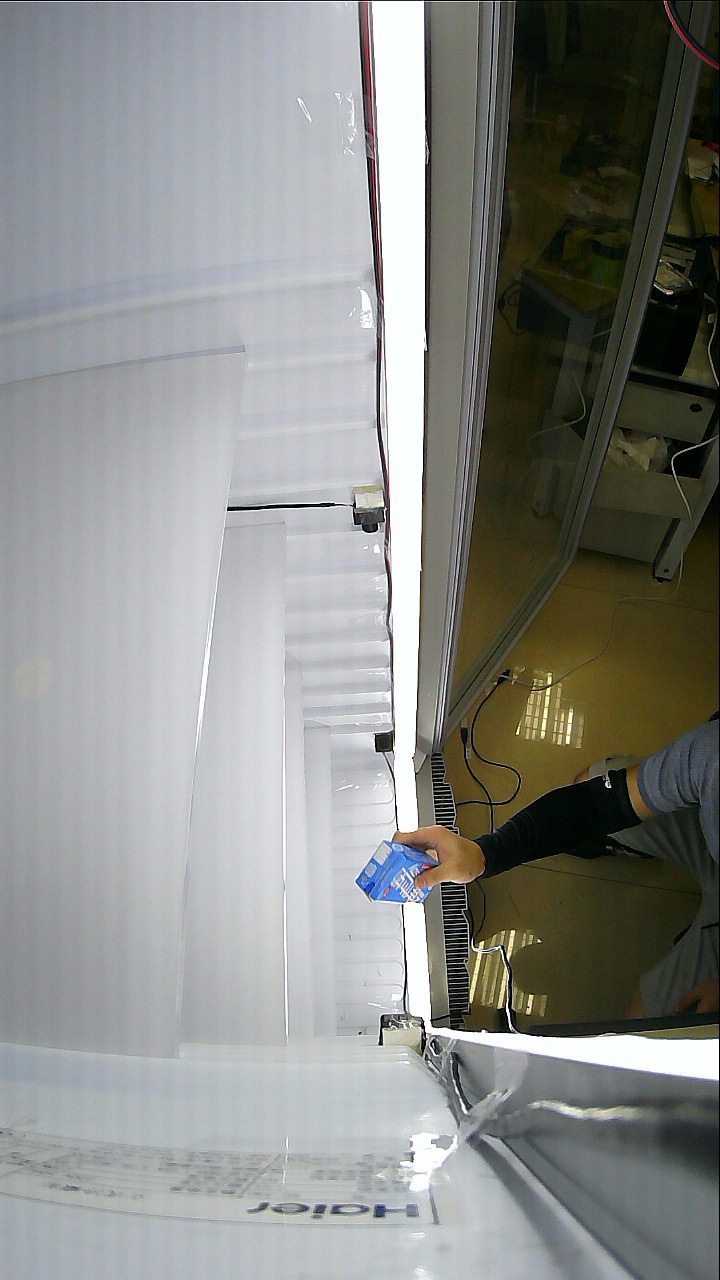VitaSoyOriginal: (360, 809, 532, 907)
